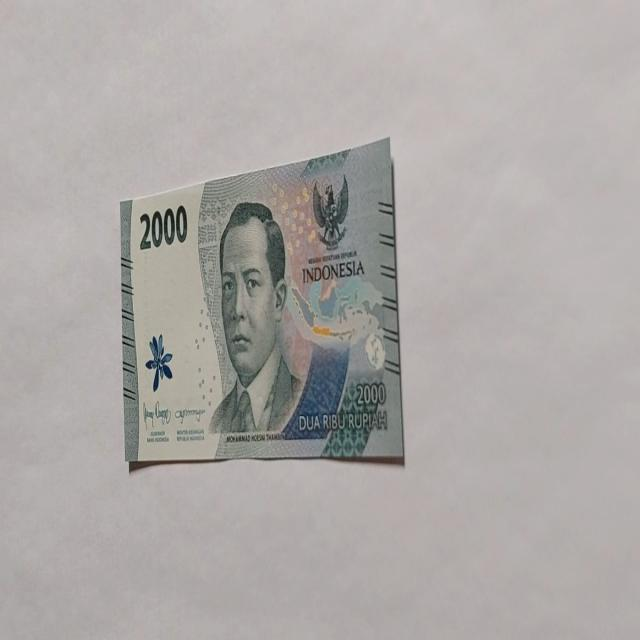dua ribu rupiah: (120, 136, 404, 468), (208, 200, 304, 436)
